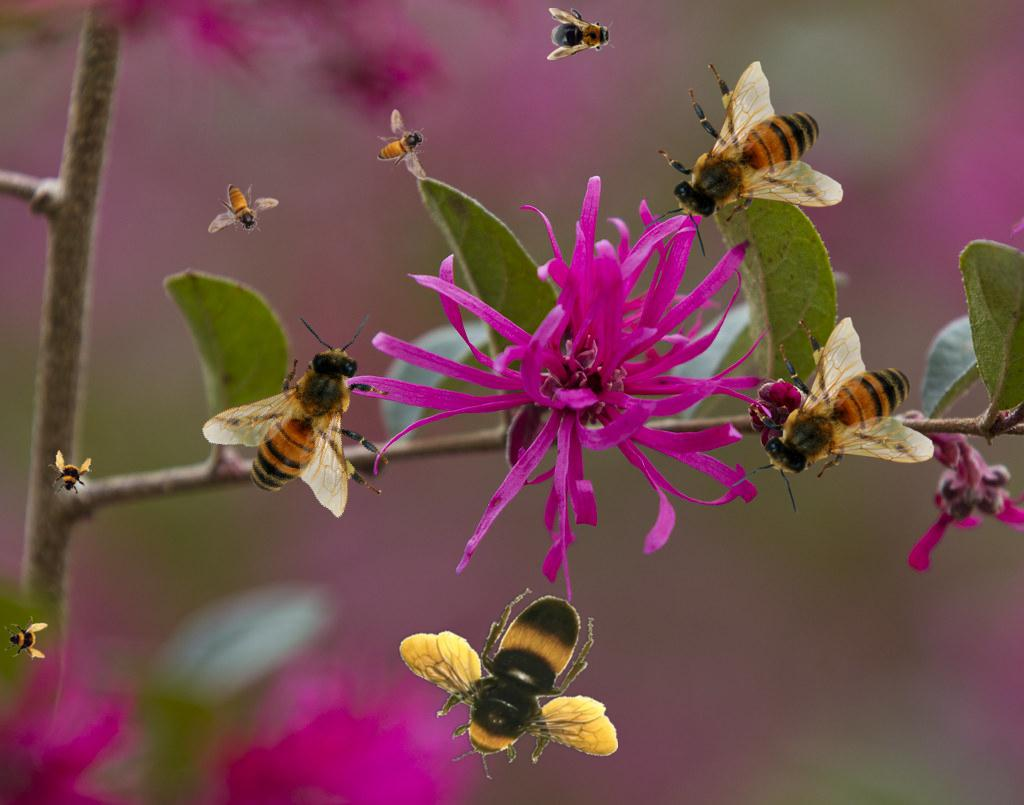Bee: (174, 286, 445, 556), (398, 588, 618, 779), (731, 317, 935, 516), (640, 61, 844, 260), (208, 184, 279, 234), (377, 109, 427, 180), (547, 8, 615, 60), (44, 449, 94, 499), (4, 616, 48, 660)
